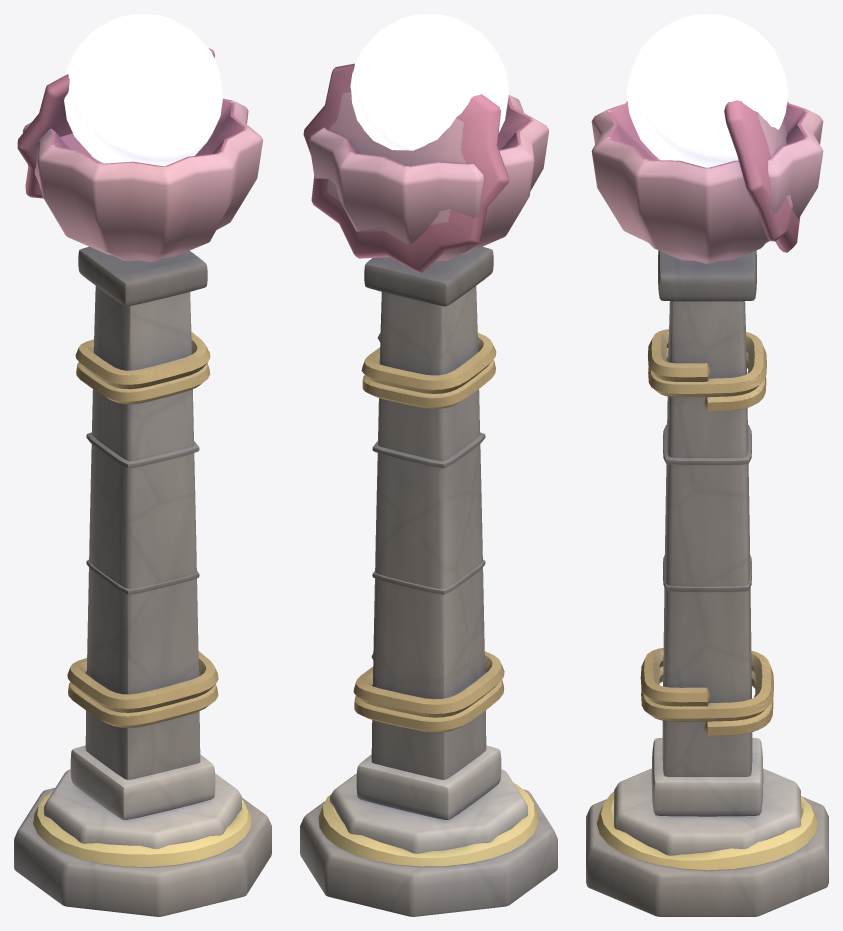
File: CC_G01_PearlCheckpoint.fbx
The picture shows the model from 3 angles, left to right: view 1: azimuth 30°, elevation 25°; view 2: azimuth 150°, elevation 25°; view 3: azimuth 270°, elevation 25°; orthographic projection.
Visible parts, largest first — view 1: Pillar, Base, Shell, Pearl; view 2: Pillar, Shell, Base, Pearl; view 3: Pillar, Base, Shell, Pearl.
Boxes of the visible parts, x1,y1,x2,y2 form: Pillar: (67, 246, 218, 819); Base: (14, 769, 271, 916); Shell: (17, 48, 262, 262); Pearl: (64, 14, 222, 165); Pillar: (353, 246, 504, 819); Shell: (303, 63, 548, 272); Base: (300, 769, 557, 916); Pearl: (350, 14, 508, 150); Pillar: (640, 250, 773, 816); Base: (586, 768, 828, 916); Shell: (591, 100, 823, 263); Pearl: (626, 14, 788, 167).
Bounding box in the file's own units: 0.78 × 3 × 0.78.
